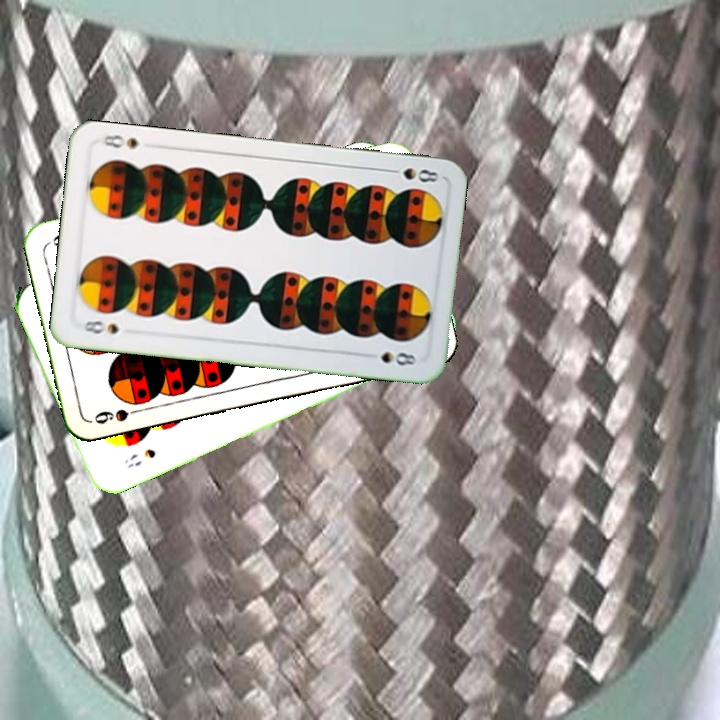S8: (382, 164, 441, 185), (120, 444, 159, 471), (80, 316, 122, 337)
S9: (90, 403, 148, 427)
